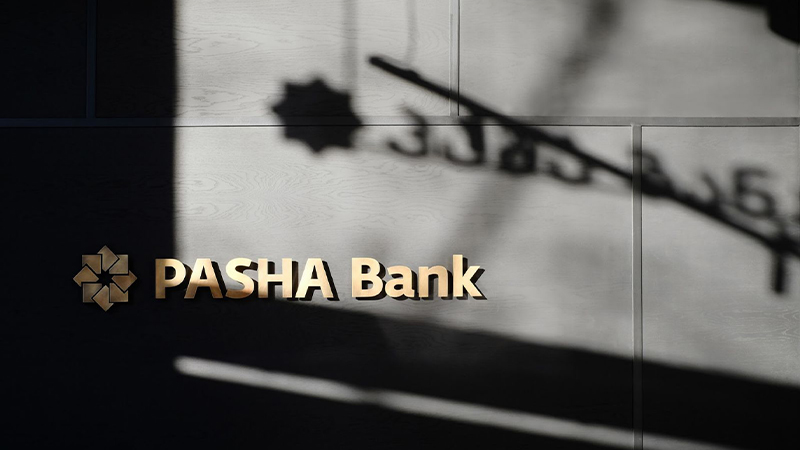Pasha Bank: (71, 244, 141, 312)
